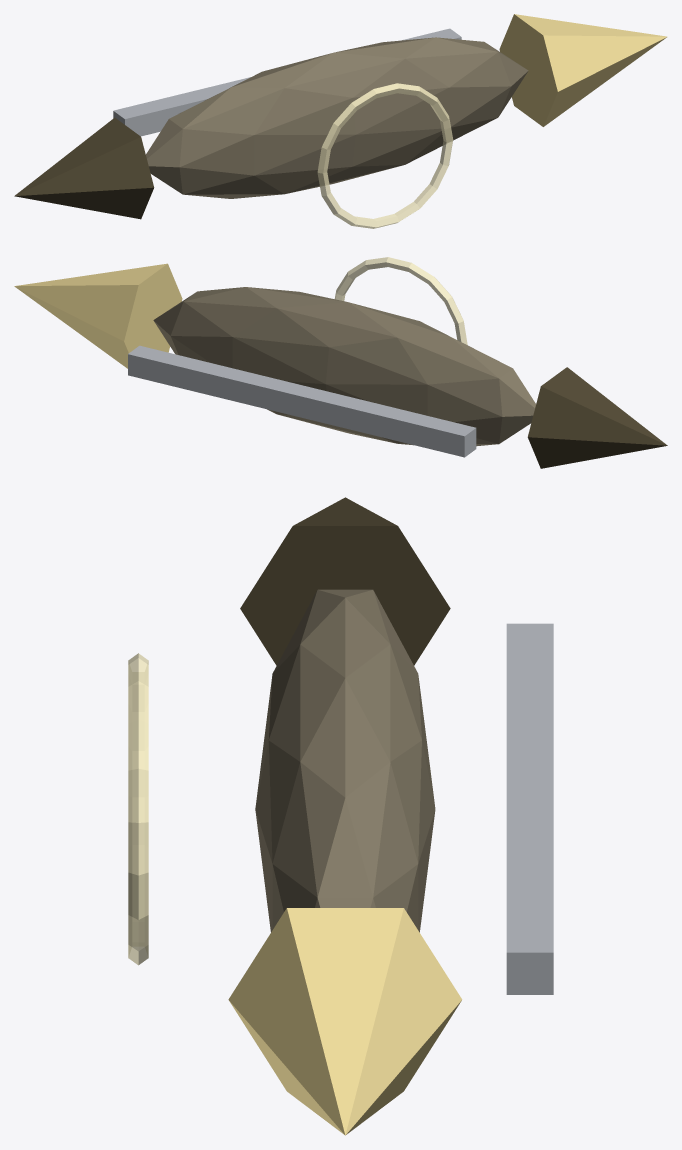
File: 05_skyship_hull.glb
3 renders of one model, top to bottom at view 1: azimuth 30°, elevation 25°; view 2: azimuth 150°, elevation 25°; view 3: azimuth 270°, elevation 25°, orthographic. The views are drawn at different scales.
Parts seen in each view (by area): view 1: hull_low_poly, bow_upgrade, stern_fin, size_class_ring, keel_plate; view 2: hull_low_poly, keel_plate, bow_upgrade, stern_fin, size_class_ring; view 3: hull_low_poly, bow_upgrade, keel_plate, stern_fin, size_class_ring.
Boxes of the visible parts, x1,y1,x2,y2 form: hull_low_poly: (146, 37, 528, 198); bow_upgrade: (499, 14, 667, 126); stern_fin: (14, 117, 154, 219); size_class_ring: (317, 83, 453, 228); keel_plate: (113, 28, 461, 136); hull_low_poly: (153, 287, 535, 446); keel_plate: (128, 345, 476, 457); bow_upgrade: (14, 263, 182, 368); stern_fin: (527, 367, 667, 468); size_class_ring: (334, 257, 467, 344); hull_low_poly: (255, 589, 435, 932); bow_upgrade: (228, 908, 462, 1135); keel_plate: (506, 623, 553, 994); stern_fin: (240, 497, 450, 665); size_class_ring: (128, 653, 148, 965).
Size of the model in its own units: 2.45 by 0.5015 by 0.6903.
